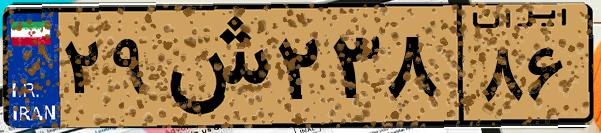2: (270, 28, 330, 110), (57, 26, 110, 100)
3: (330, 28, 385, 110)
6: (525, 38, 570, 115)
8: (385, 28, 445, 110), (475, 38, 525, 113)
9: (110, 28, 158, 98)
ش: (158, 12, 270, 120)
